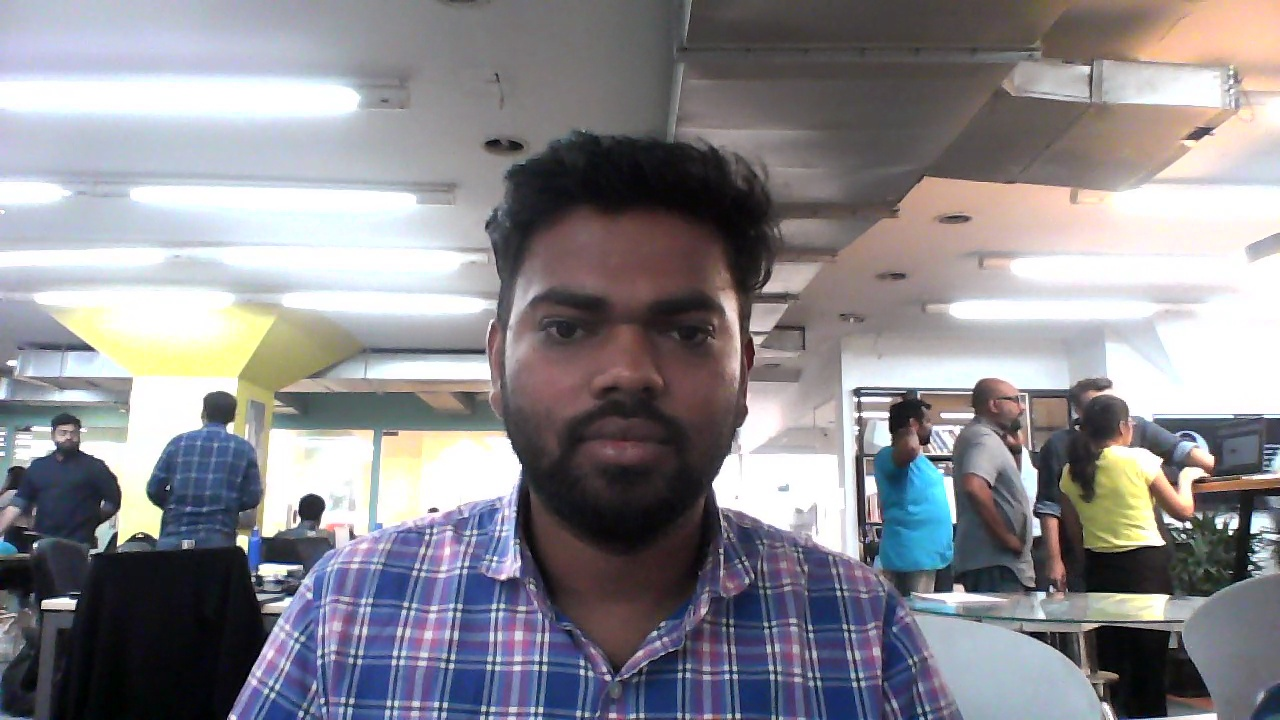open: (492, 130, 758, 558)
